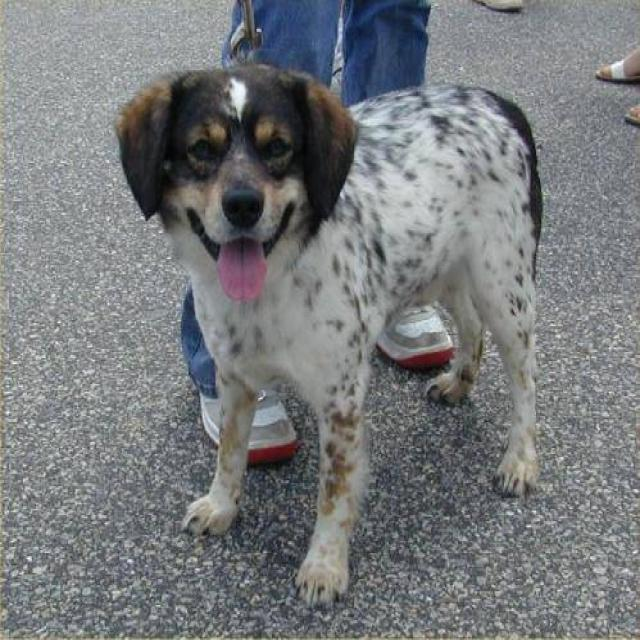dog: (113, 61, 544, 608)
